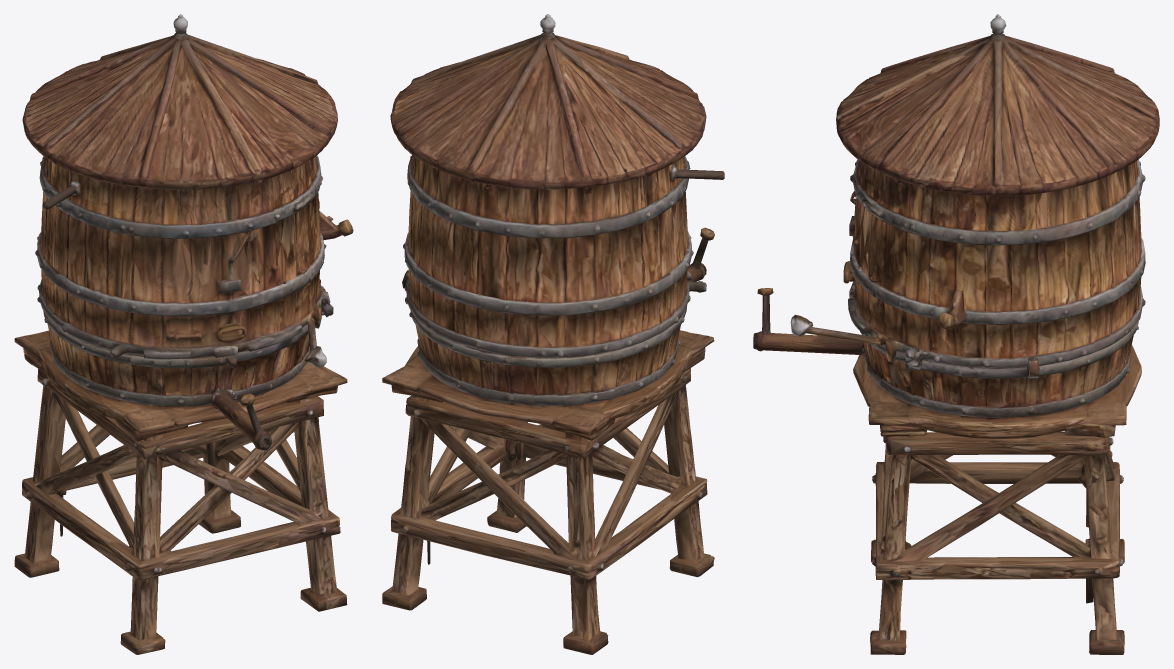
File: bld_west_watertower.fbx
The picture shows the model from 3 angles, left to right: view 1: azimuth 30°, elevation 25°; view 2: azimuth 150°, elevation 25°; view 3: azimuth 270°, elevation 25°; orthographic projection. The views are drawn at different scales.
Parts seen in each view (by area): view 1: bld_west_watertower_LOD0; view 2: bld_west_watertower_LOD0; view 3: bld_west_watertower_LOD0.
Boxes of the visible parts, box(x1,y1,x2,y2) form: bld_west_watertower_LOD0: box(14, 14, 353, 654); bld_west_watertower_LOD0: box(382, 14, 724, 654); bld_west_watertower_LOD0: box(753, 14, 1159, 654).
Size of what is drawn, in the model's own units: 0.5464 by 0.981 by 0.6149.
